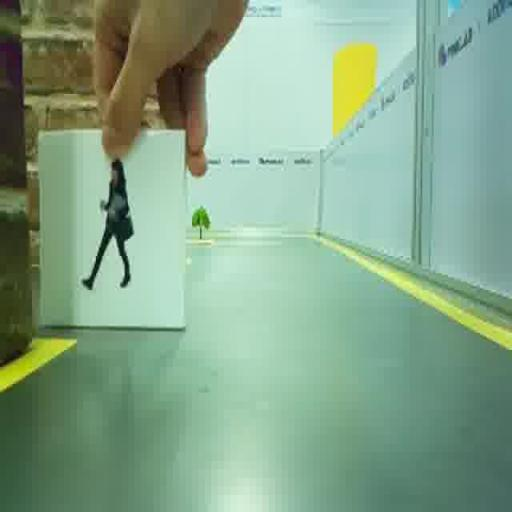human: (82, 160, 133, 289)
